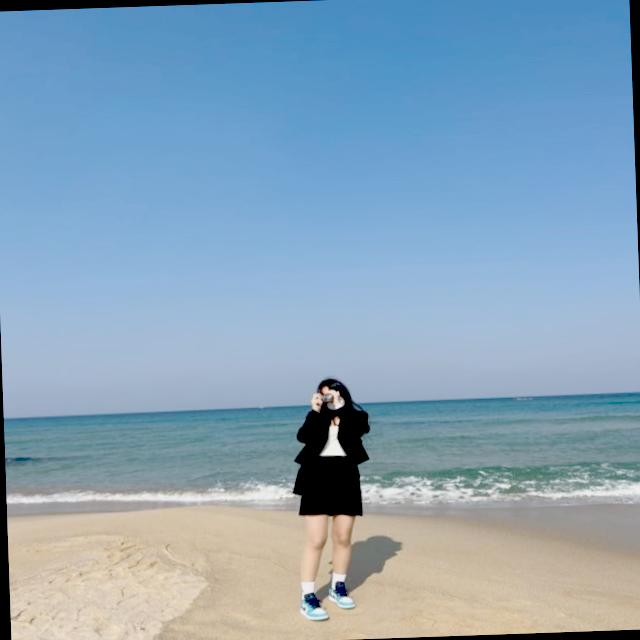blazer: (291, 402, 369, 468)
skirt: (298, 453, 366, 518)
